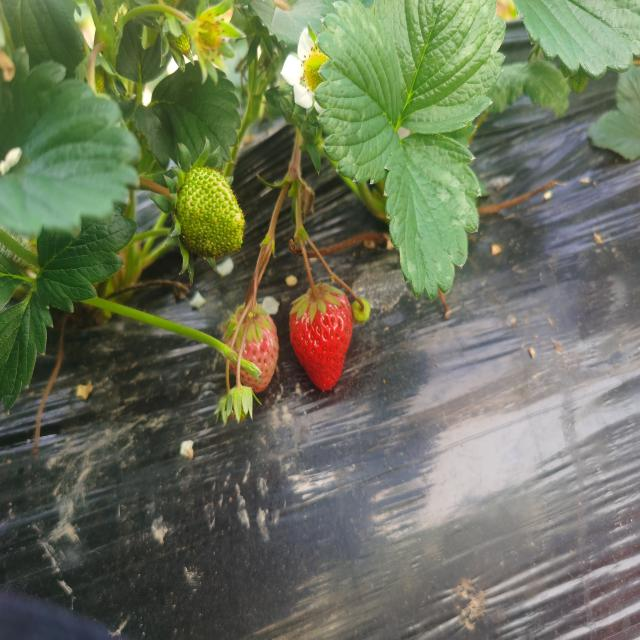stem: (301, 247, 317, 296)
strawberry: (289, 284, 353, 391), (242, 308, 278, 393), (223, 307, 243, 345)
